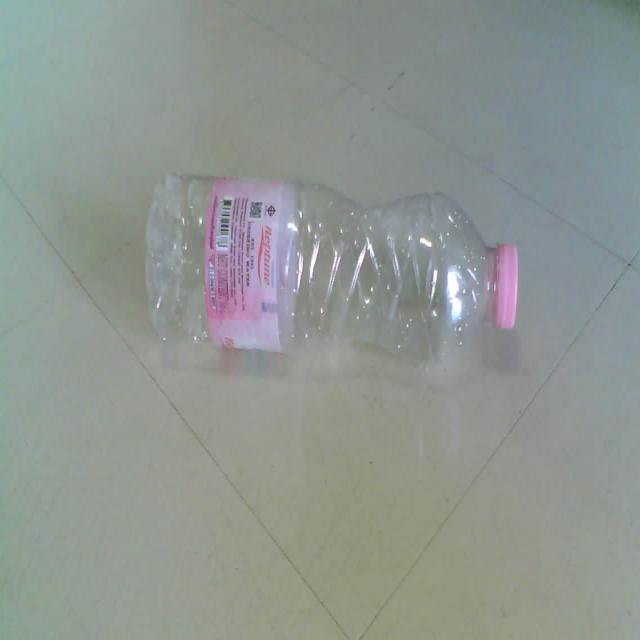empty: (145, 175, 517, 364)
